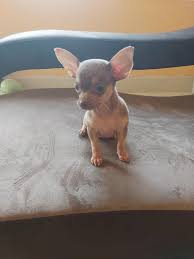chihuahua: (45, 41, 159, 198)
